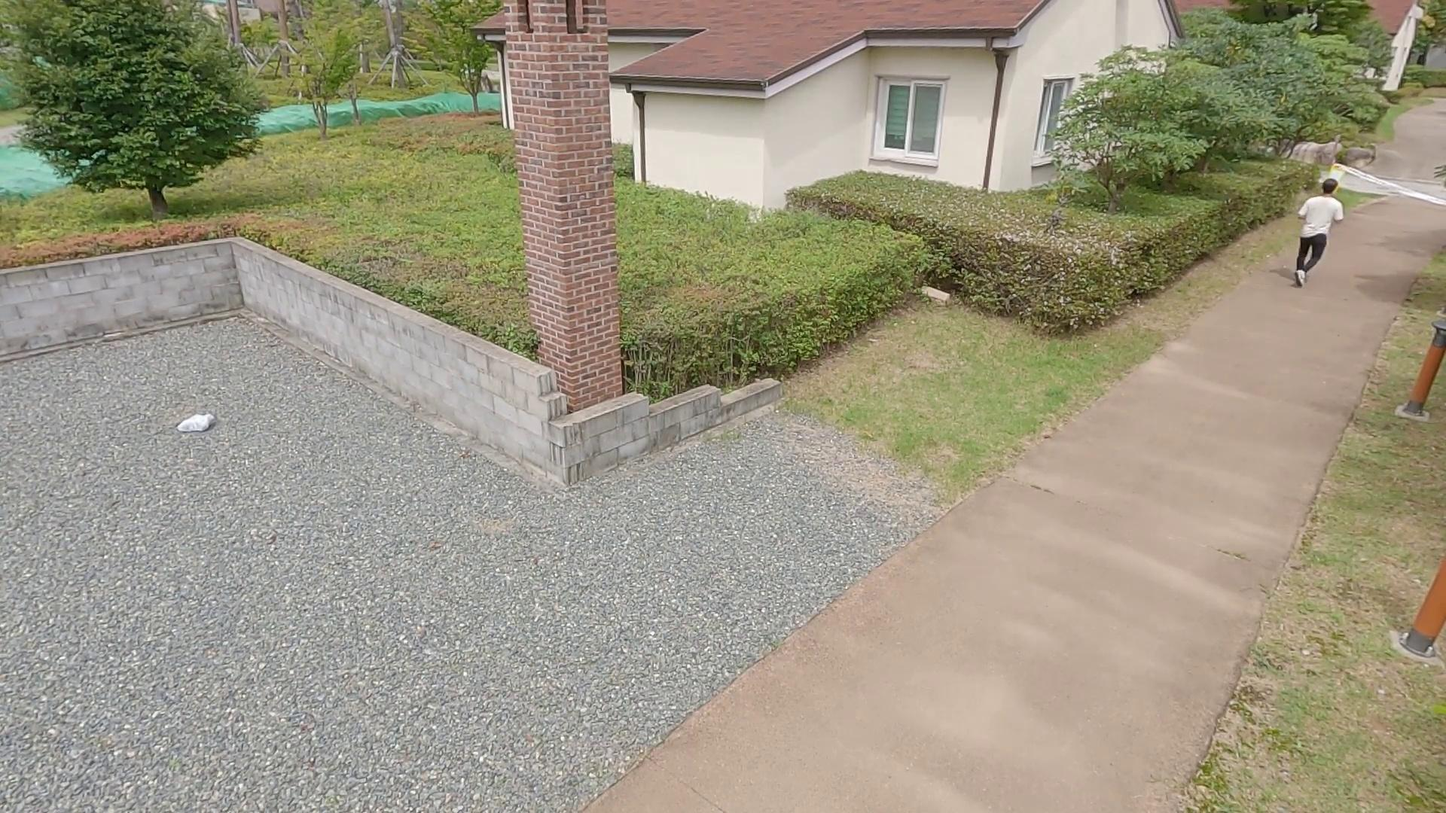person: (1293, 173, 1346, 288)
trash: (174, 405, 221, 438)
